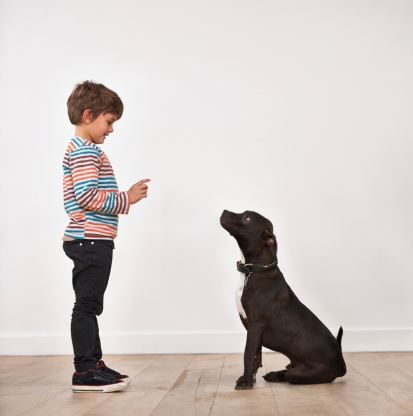em pe: (39, 68, 148, 388)
